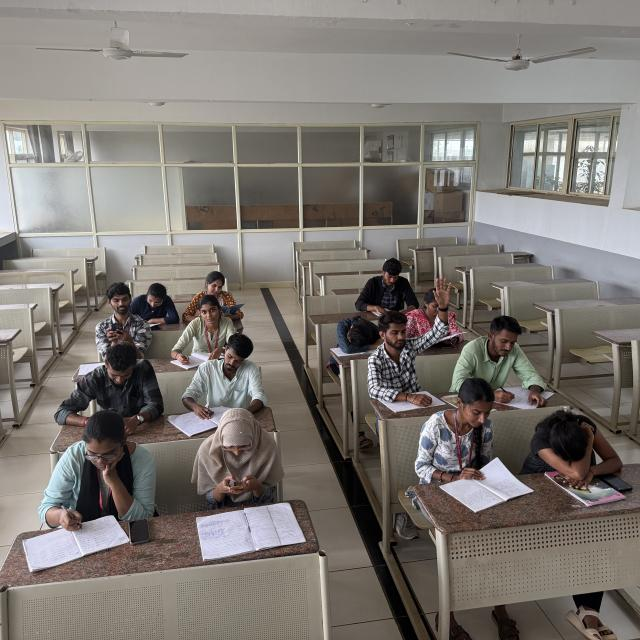Hand Rising: (367, 284, 447, 410)
Reading: (423, 387, 527, 509), (186, 340, 261, 431), (180, 260, 264, 322), (404, 284, 479, 342), (350, 256, 419, 314)
Sleeping: (528, 408, 628, 482), (326, 310, 384, 356)
Using Phone: (194, 406, 292, 500), (78, 283, 161, 353)
Writing: (19, 411, 132, 564), (463, 317, 565, 405), (169, 300, 241, 368), (127, 273, 182, 328)
